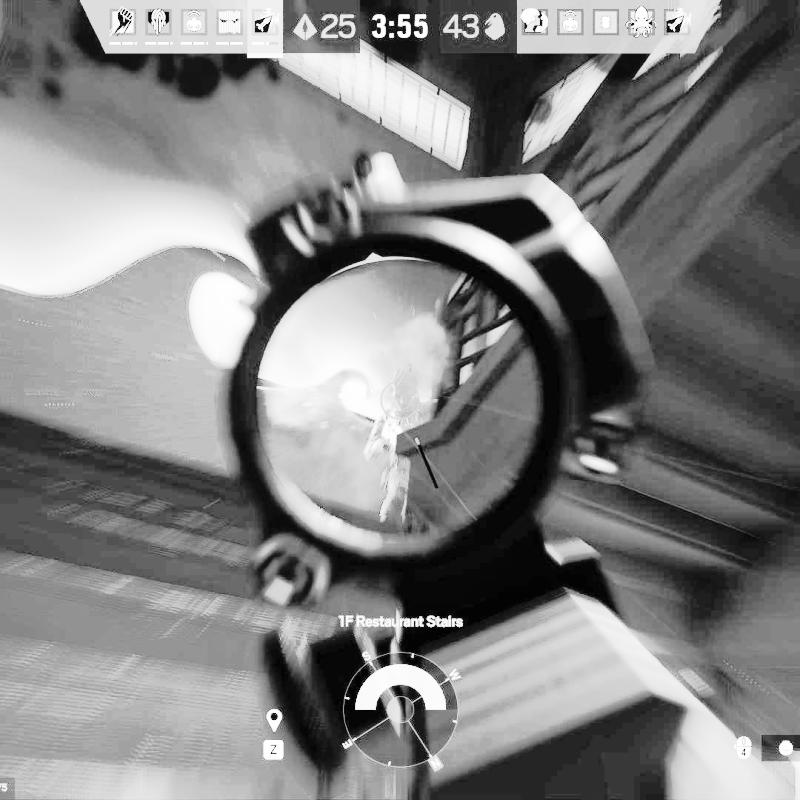Character: (361, 364, 439, 528)
Head: (386, 368, 420, 412)
